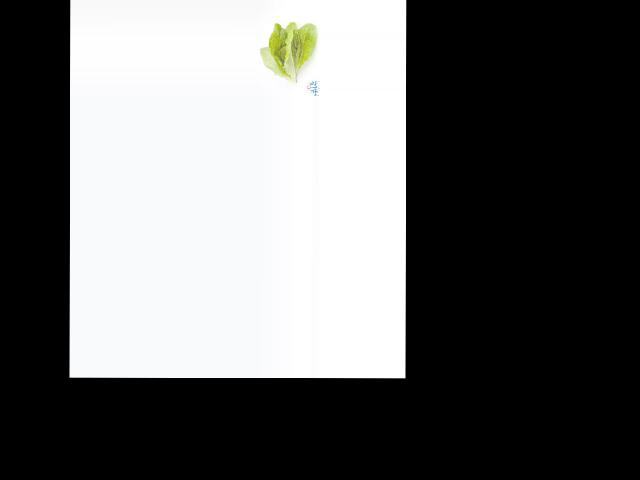lettuce: (258, 19, 316, 83)
